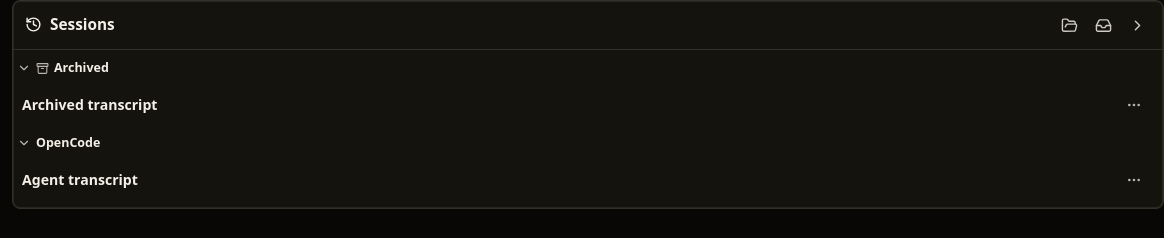
it: SessionArchivePanel › imports a clicked ACP candidate as archived and removes the stale discovery row
Click the button "Agent transcript" at (80, 179), box x1=22 y1=170 x2=1118 y2=190
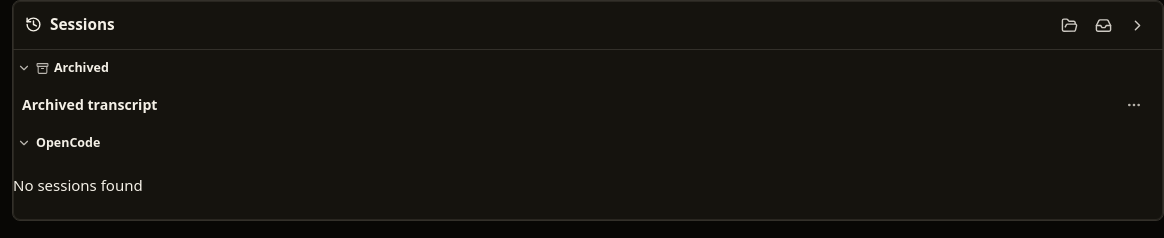
Check: the button "Agent transcript" is gone
